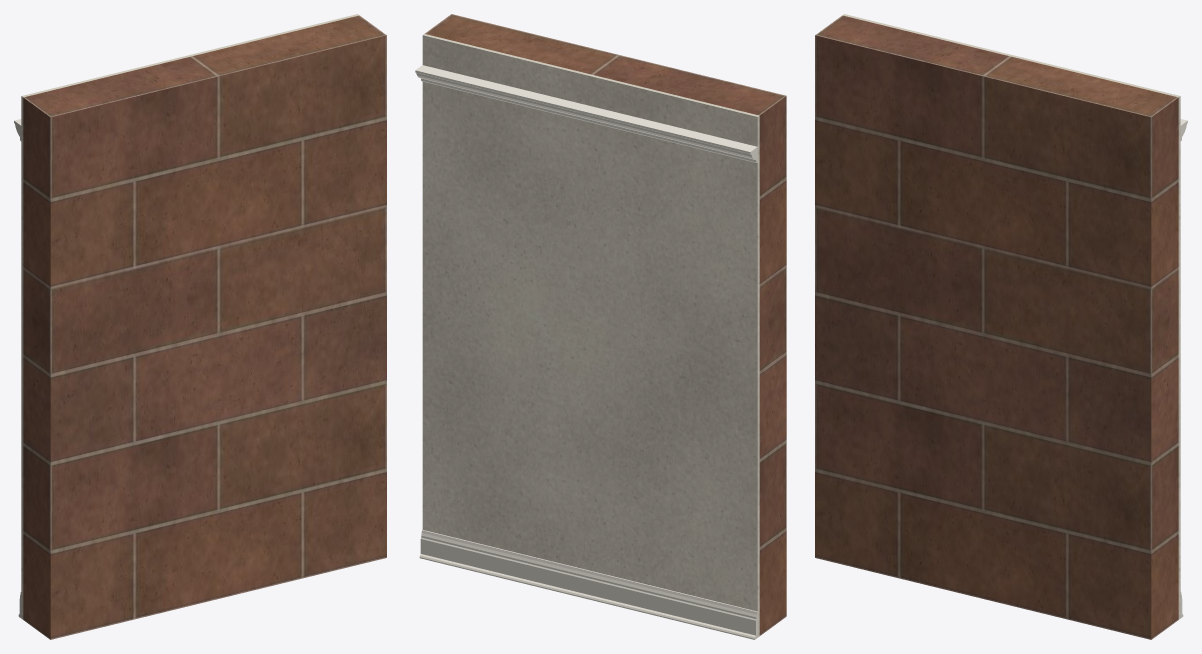
Rendered from wall_stone_stoop.glb.
3 views of the same model, side by side, from view 1: azimuth 30°, elevation 25°; view 2: azimuth 150°, elevation 25°; view 3: azimuth 330°, elevation 25° (orthographic).
Visible parts, largest first — view 1: wall_stone_stoop_stone, wall_stone_stoop_plaster; view 2: wall_stone_stoop_plaster, wall_stone_stoop_stone, molduras; view 3: wall_stone_stoop_stone, wall_stone_stoop_plaster.
Boxes of the visible parts, x1,y1,x2,y2 form: wall_stone_stoop_stone: (23,15,386,639); wall_stone_stoop_plaster: (21,14,359,619); wall_stone_stoop_plaster: (422,34,759,637); wall_stone_stoop_stone: (424,14,786,635); molduras: (415,65,757,639); wall_stone_stoop_stone: (815,15,1178,639); wall_stone_stoop_plaster: (842,14,1180,619).
Size of the model in its own units: 2 by 2.97 by 0.375.
3 materials, 2 textured.
